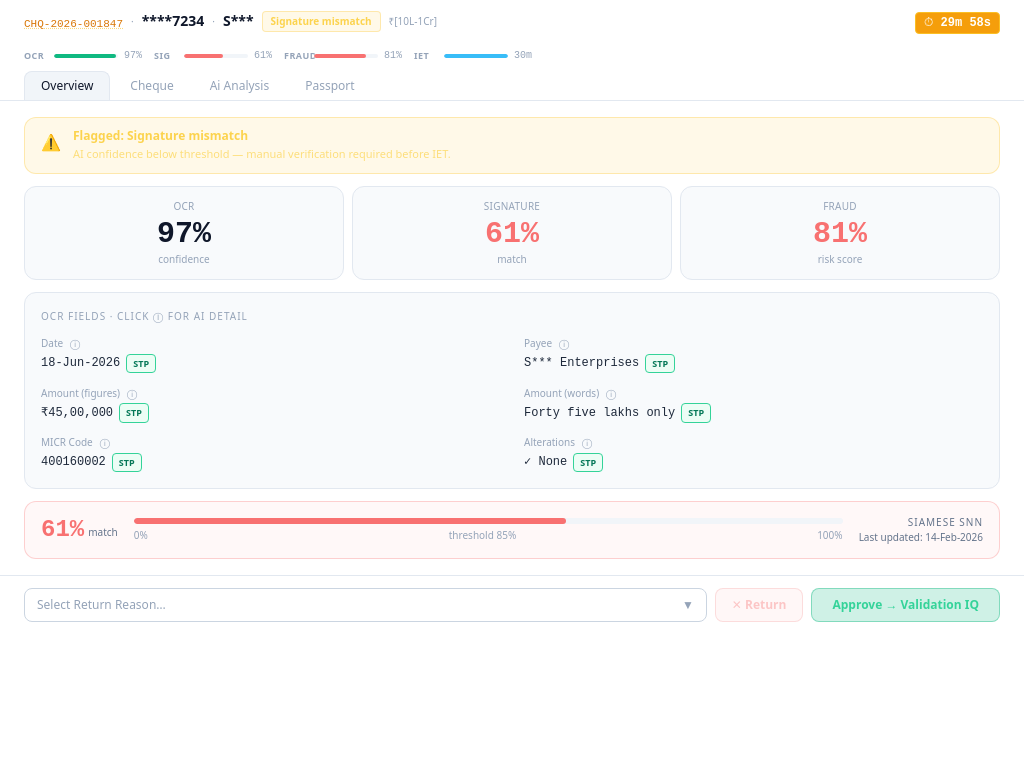
ReviewPanel — action footer › Return button enables after selecting a reason
This screenshot has width=1024, height=768.
Click the text "Select Return Reason…" at {"x": 101, "y": 605}, box top-left (37, 597), bottom-right (166, 613)
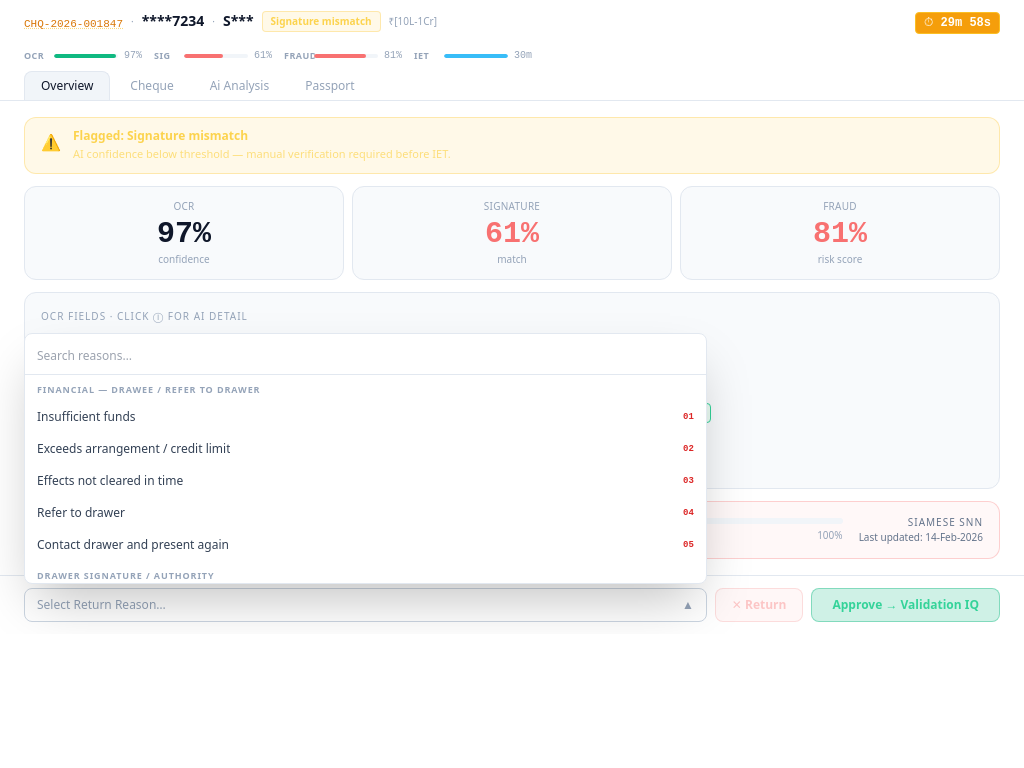
Press the mouse on the text "Insufficient funds" at {"x": 86, "y": 416}, box top-left (37, 408), bottom-right (136, 424)
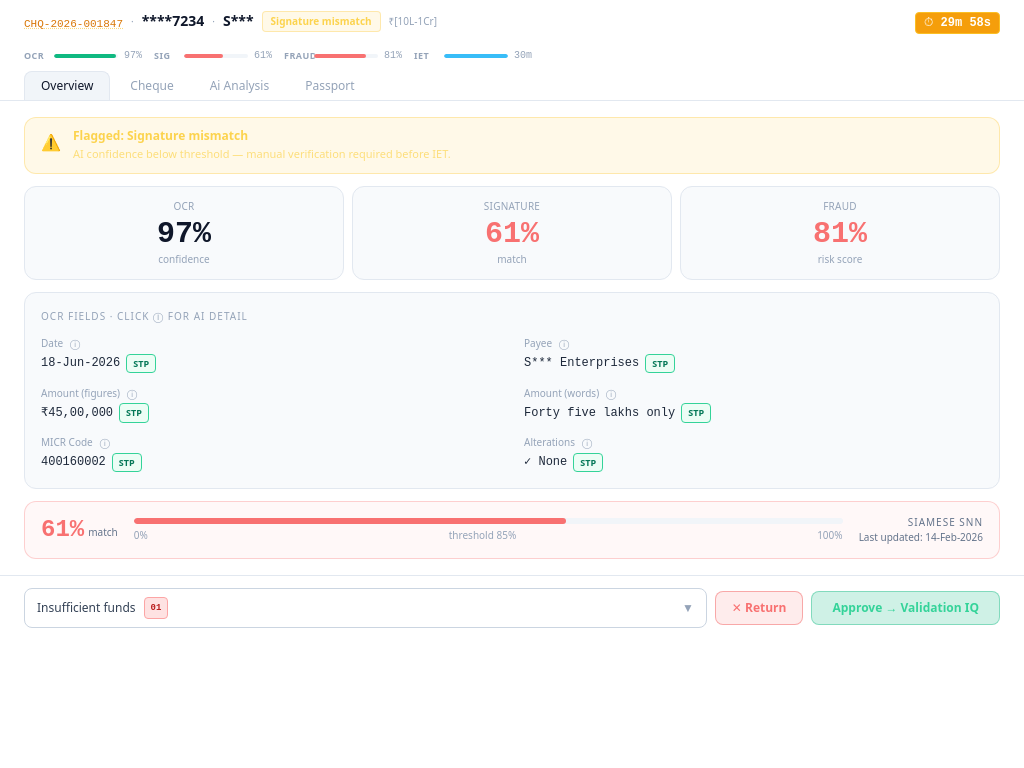
Expected: the button "✕ Return" is enabled, top-left (715, 591), bottom-right (803, 625)
